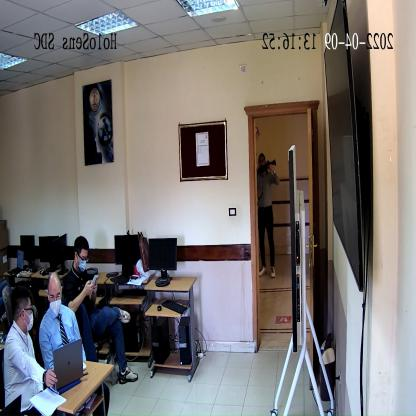handgun: (254, 158, 277, 176)
